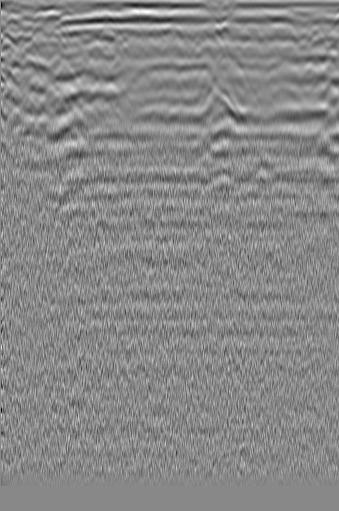가스: (197, 79, 243, 136)
상수: (20, 22, 55, 43)
오수: (289, 55, 323, 82)
우수: (147, 22, 192, 56)
